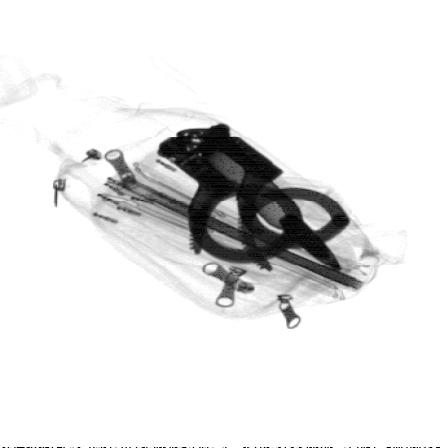Bullet: (193, 132, 345, 272)
HandCuffs: (153, 122, 354, 268)
